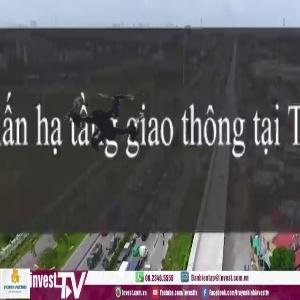drone: (4, 17, 208, 221)
